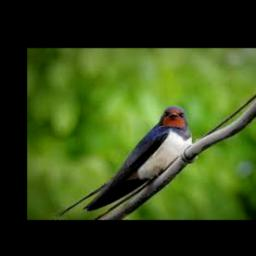Swallow: (56, 105, 193, 217)
